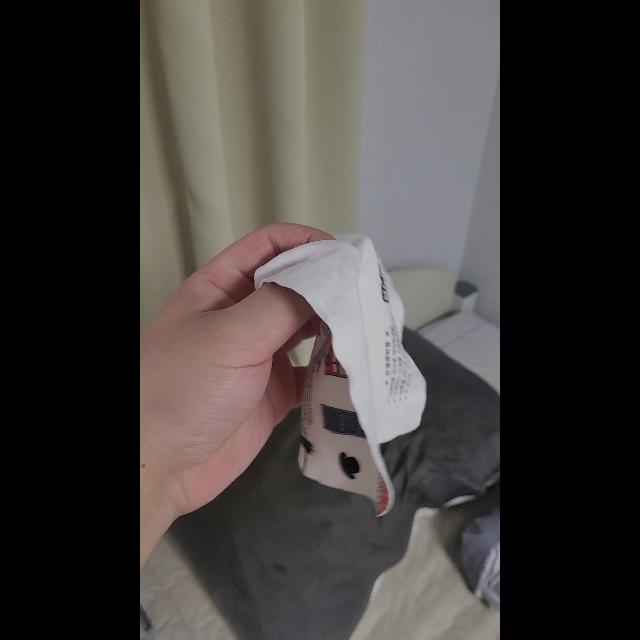Glasses cleaning cloth: (254, 234, 426, 516)
